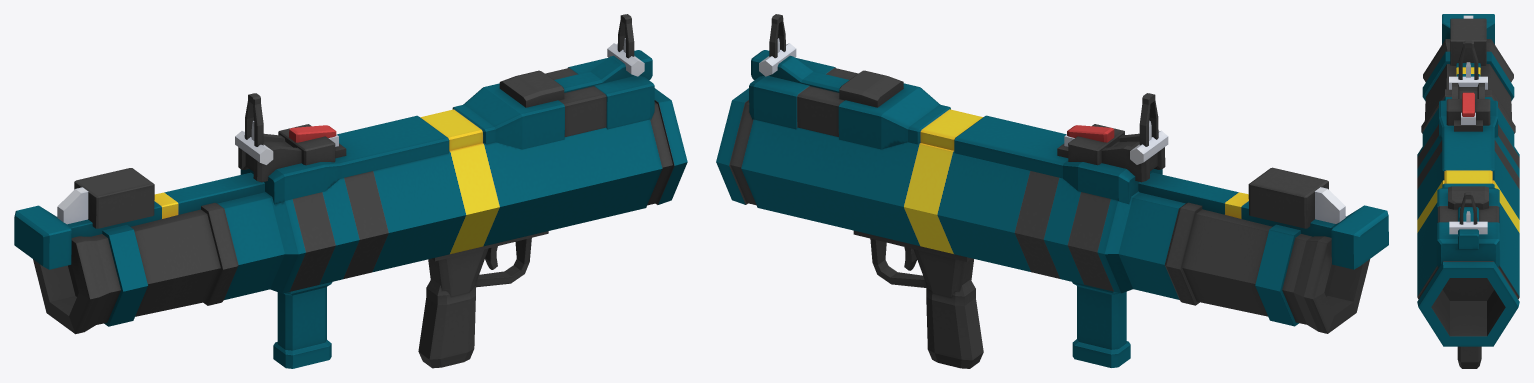
Rendered from ImposterEscape_rocket.fbx.
3 views of the same model, side by side, from view 1: azimuth 30°, elevation 25°; view 2: azimuth 150°, elevation 25°; view 3: azimuth 270°, elevation 25° (orthographic). The views are drawn at different scales.
Visible parts, largest first — view 1: ImposterEscape_rocket_geo; view 2: ImposterEscape_rocket_geo; view 3: ImposterEscape_rocket_geo.
Boxes of the visible parts, x1,y1,x2,y2 form: ImposterEscape_rocket_geo: (14,14,687,368); ImposterEscape_rocket_geo: (716,14,1388,368); ImposterEscape_rocket_geo: (1417,14,1519,368).
Size of the model in its own units: 17.73 by 8.43 by 3.19.
Materials: 1 (1 with a texture image).
